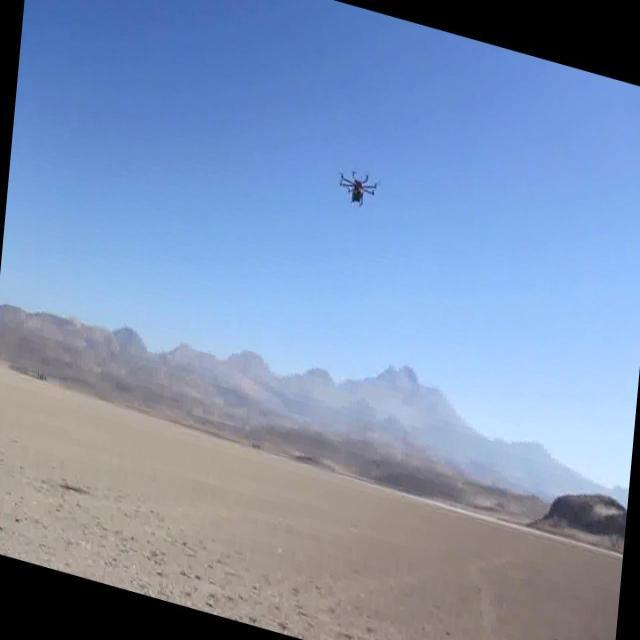drone: (334, 154, 382, 214)
